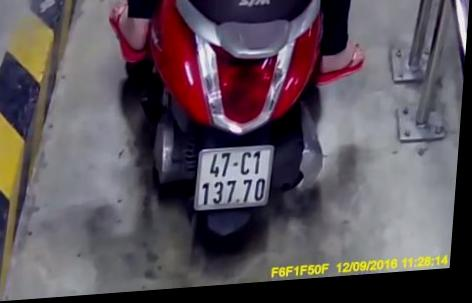License_Plate: (186, 139, 279, 215)
